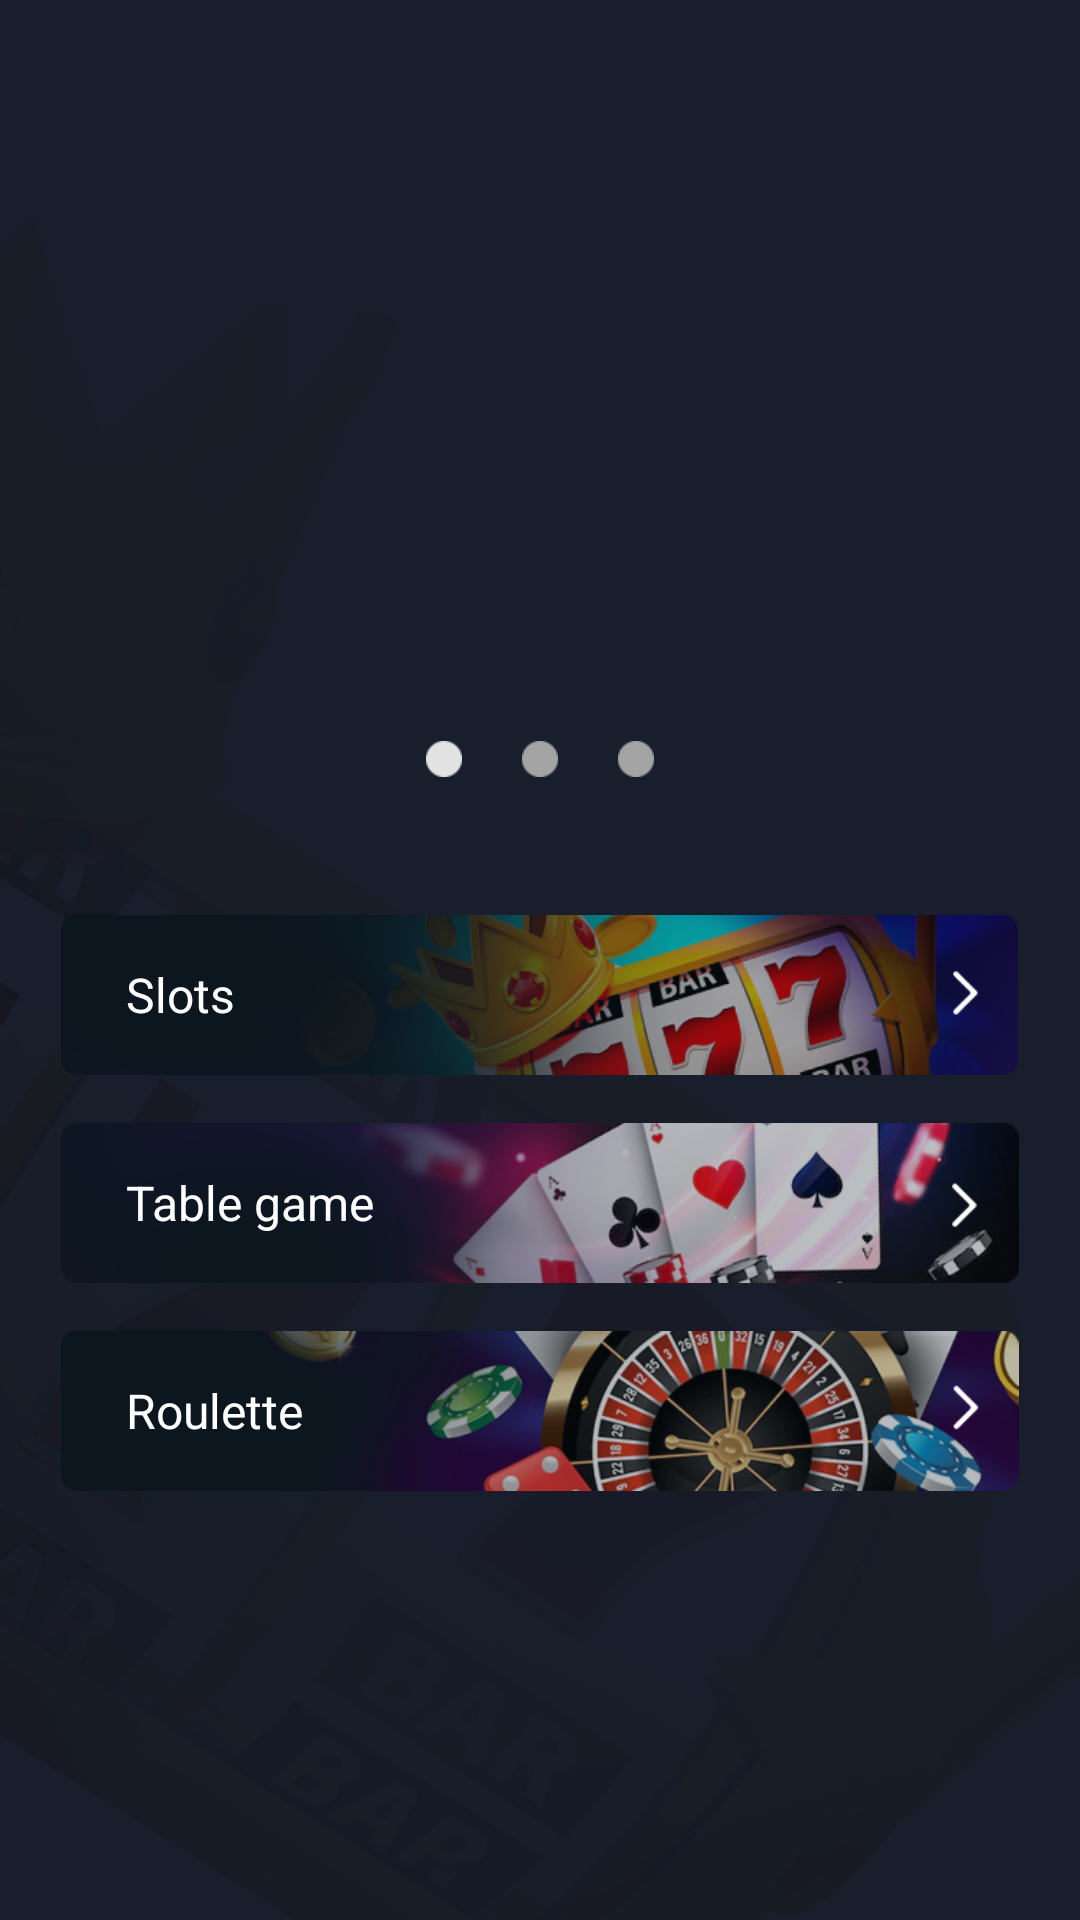

Icon click points for this 1080x1920 phone screenshot, format (x=x, y=y):
slider tab: (x=444, y=759)
slider tab not: (x=540, y=759), (x=636, y=759)
